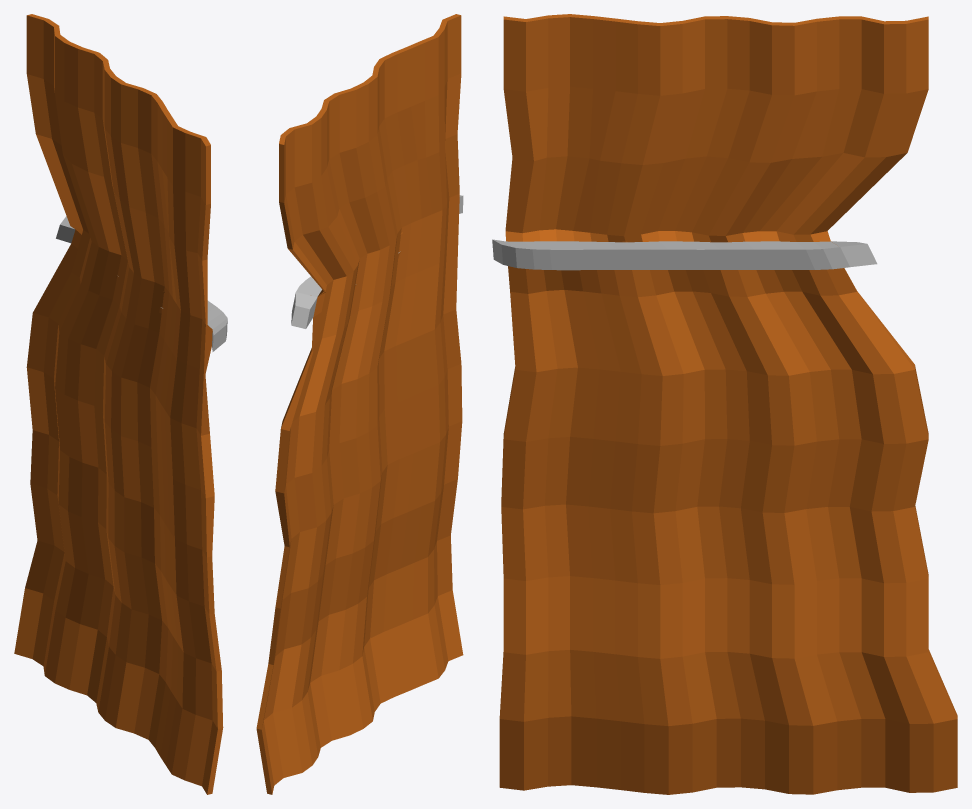
The model's file is Gordijn2.fbx.
3 renders of one model, left to right at view 1: azimuth 30°, elevation 25°; view 2: azimuth 150°, elevation 25°; view 3: azimuth 270°, elevation 25°, orthographic. The views are drawn at different scales.
Parts seen in each view (by area): view 1: Cube, Cube.001; view 2: Cube, Cube.001; view 3: Cube, Cube.001.
Boxes of the visible parts, box(x1,y1,x2,y2) form: Cube: box(14, 14, 223, 794); Cube.001: box(56, 216, 227, 351); Cube: box(256, 14, 463, 794); Cube.001: box(291, 195, 463, 328); Cube: box(499, 14, 957, 794); Cube.001: box(492, 239, 877, 270).
Bounding box in the file's own units: 11.61 × 201 × 110.
